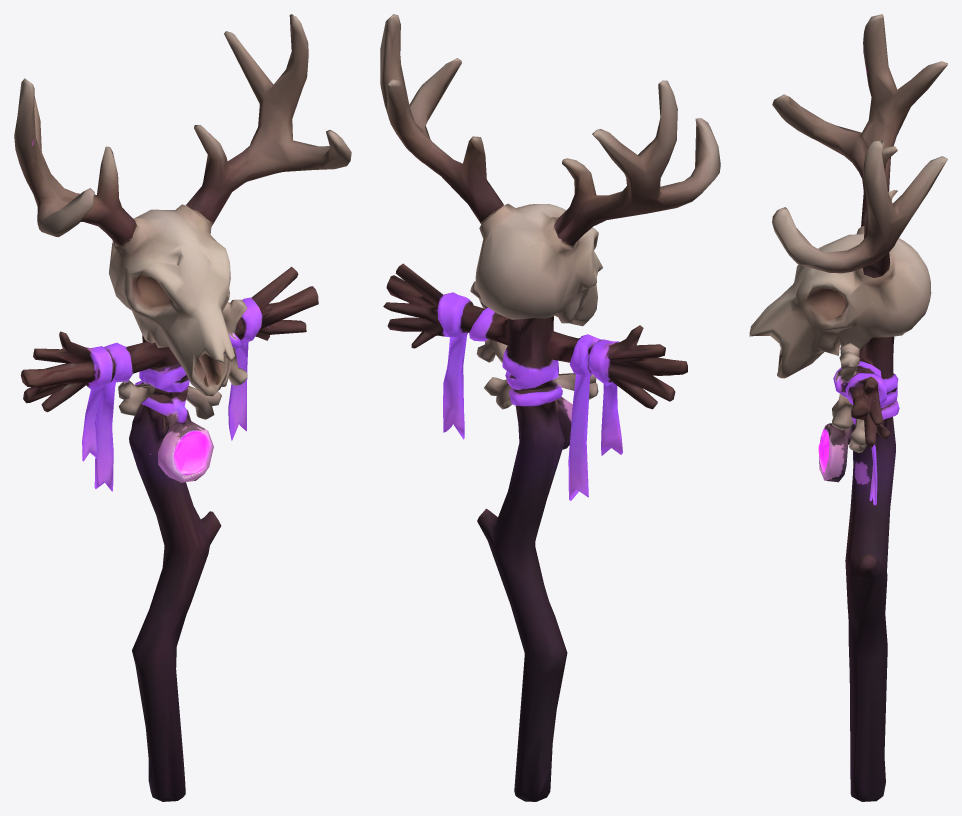
Rendered from gy_totem-DaT5PQLm.glb.
3 views of the same model, side by side, from view 1: azimuth 30°, elevation 25°; view 2: azimuth 150°, elevation 25°; view 3: azimuth 270°, elevation 25° (orthographic). The views are drawn at different scales.
Parts seen in each view (by area): view 1: tripo_node_501c59c0-58d2-45ec-8cca-42ee7cbb7844; view 2: tripo_node_501c59c0-58d2-45ec-8cca-42ee7cbb7844; view 3: tripo_node_501c59c0-58d2-45ec-8cca-42ee7cbb7844.
Part boxes in pixels (left/top/right/bottom): tripo_node_501c59c0-58d2-45ec-8cca-42ee7cbb7844: left=14, top=14, right=351, bottom=801; tripo_node_501c59c0-58d2-45ec-8cca-42ee7cbb7844: left=380, top=14, right=720, bottom=801; tripo_node_501c59c0-58d2-45ec-8cca-42ee7cbb7844: left=749, top=14, right=947, bottom=801.
Size of the model in its own units: 0.4182 by 1 by 0.2501.
Materials: 1 (1 with a texture image).
